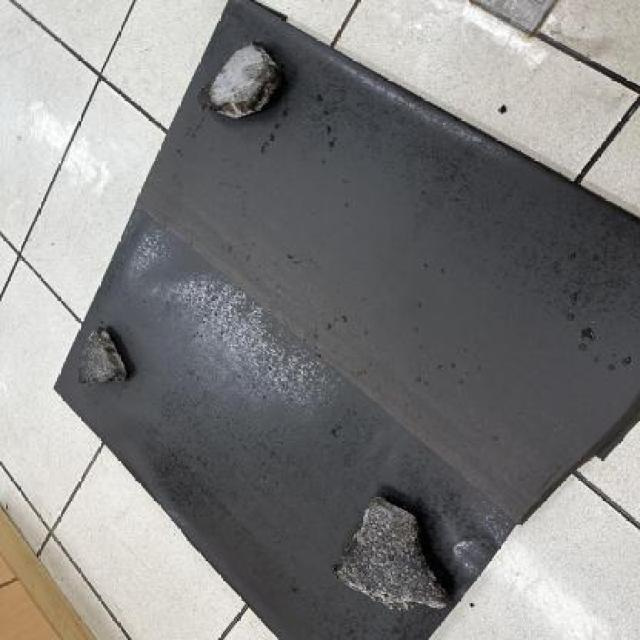Road Debris: (338, 540, 438, 602), (74, 333, 112, 384), (239, 64, 267, 102)
